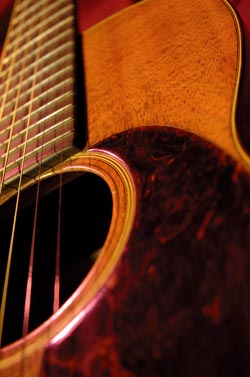guitar: (1, 2, 247, 377)
